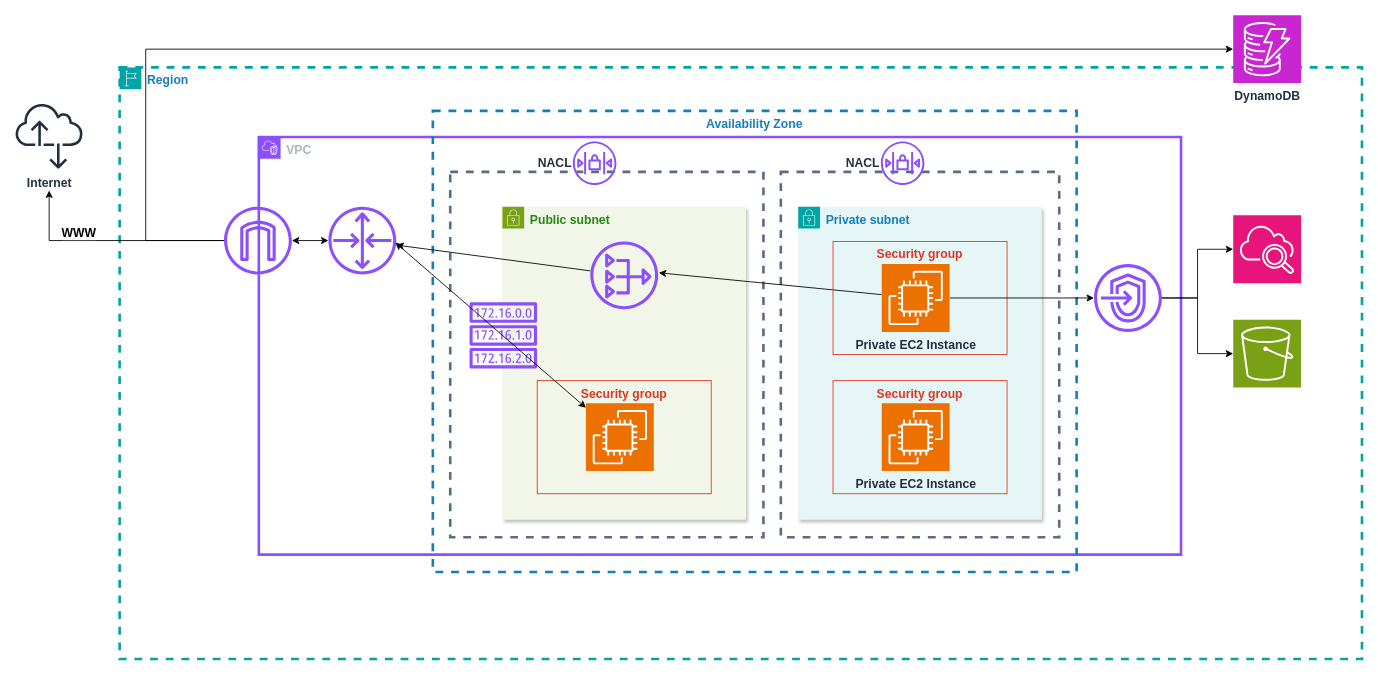
The diagram is 1378 pixels wide and 675 high, and some of its shapes have lost their labels. The centre of each missing label's shape, as x and y in pixels:
"CloudWatch" goes at point 1266,248.
"Internet Gateway" goes at point 257,240.
"NAT Gateway" goes at point 624,275.
"Public EC2 Instance" goes at point 619,436.
"Router" goes at point 362,240.
"S3" goes at point 1266,353.
"VPC Endpoint" goes at point 1127,297.
